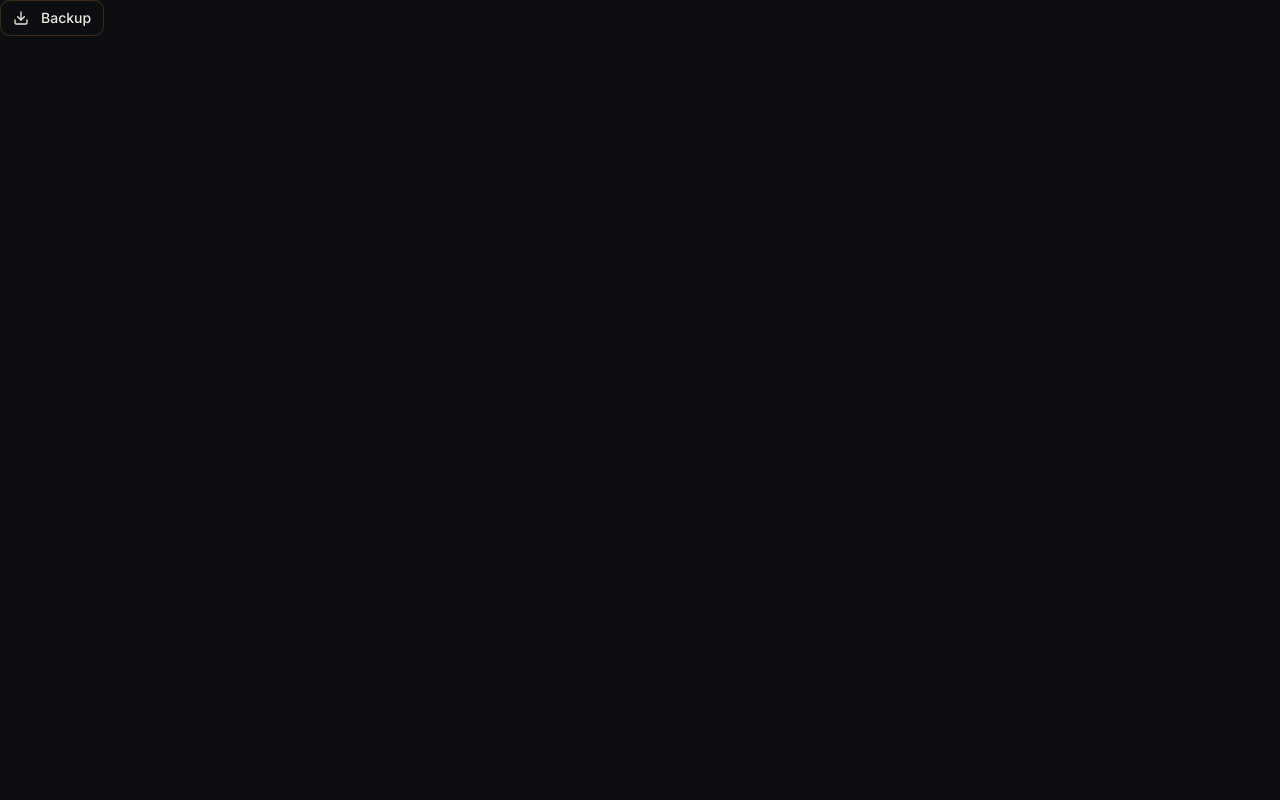
Test: recipe storage › restores a mixed backup through the file picker without poisoning the library
What coordinates should you click on to do the following:
click the button "Backup"
I would click on:
 (52, 18)
Its box is [0,0,104,36].
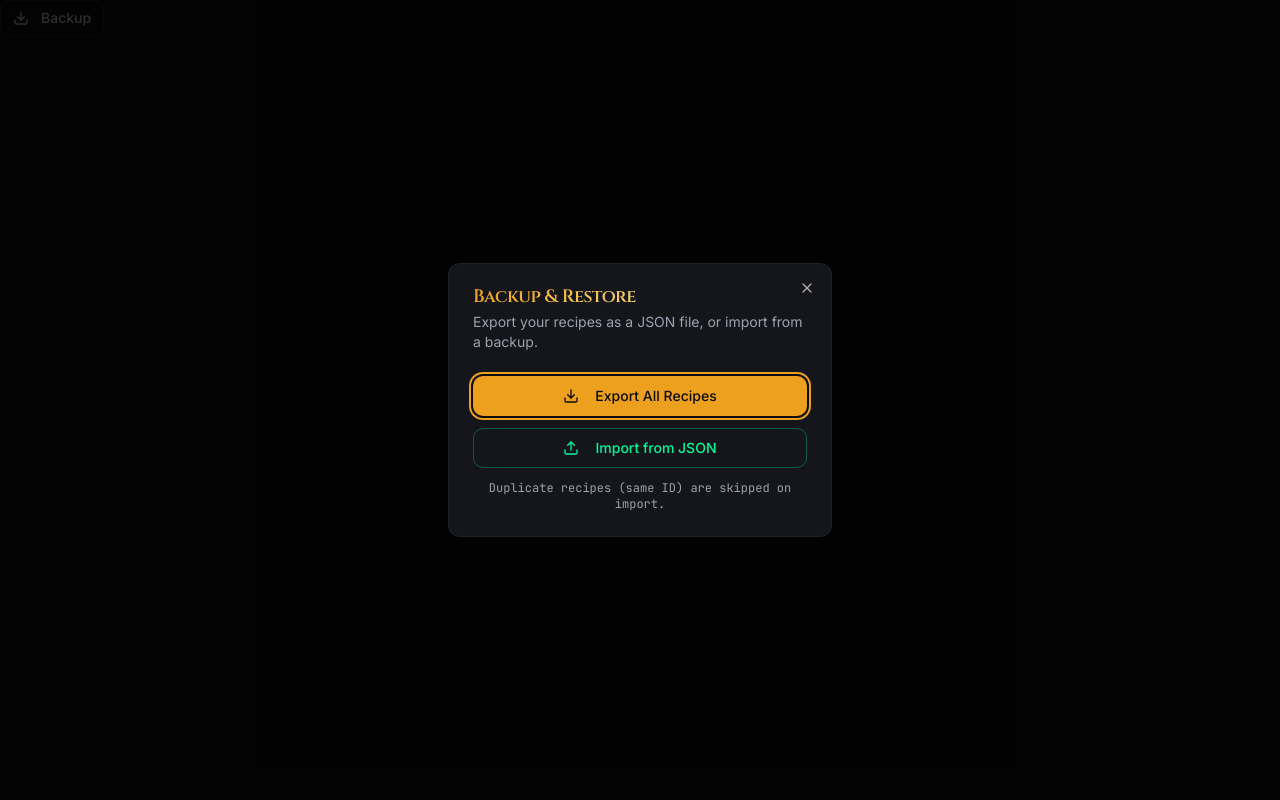
Check: the element showing "Import from JSON" is shown, box [473,428,807,468]
